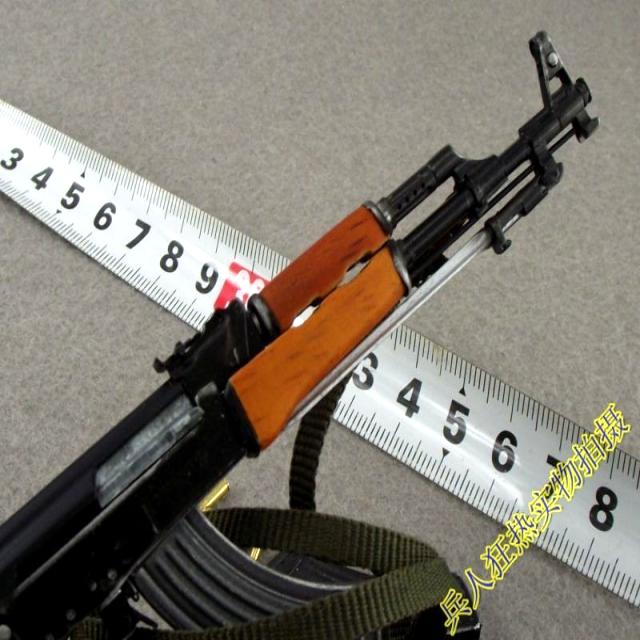ak: (0, 25, 603, 640)
